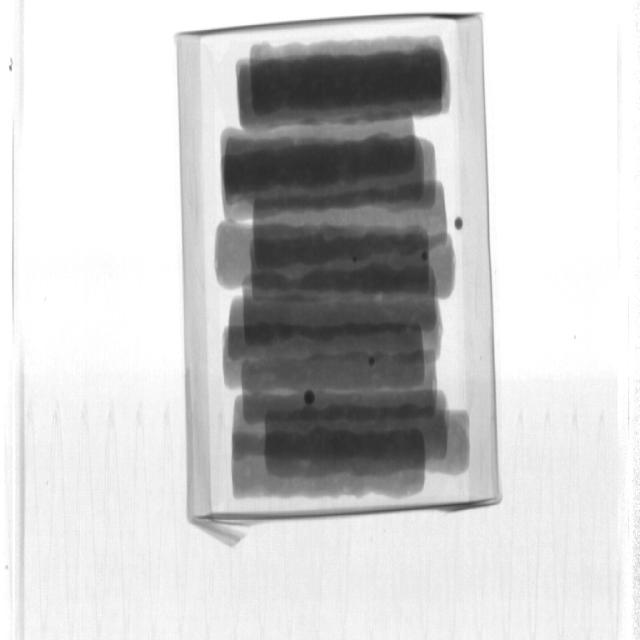ym: (306, 390, 317, 405), (422, 248, 431, 264), (455, 216, 465, 230), (368, 358, 375, 366), (353, 257, 358, 262)
